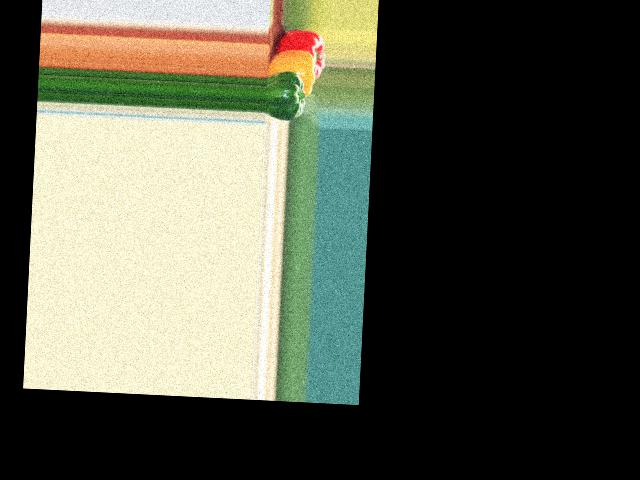bell_pepper: (268, 29, 326, 79)
